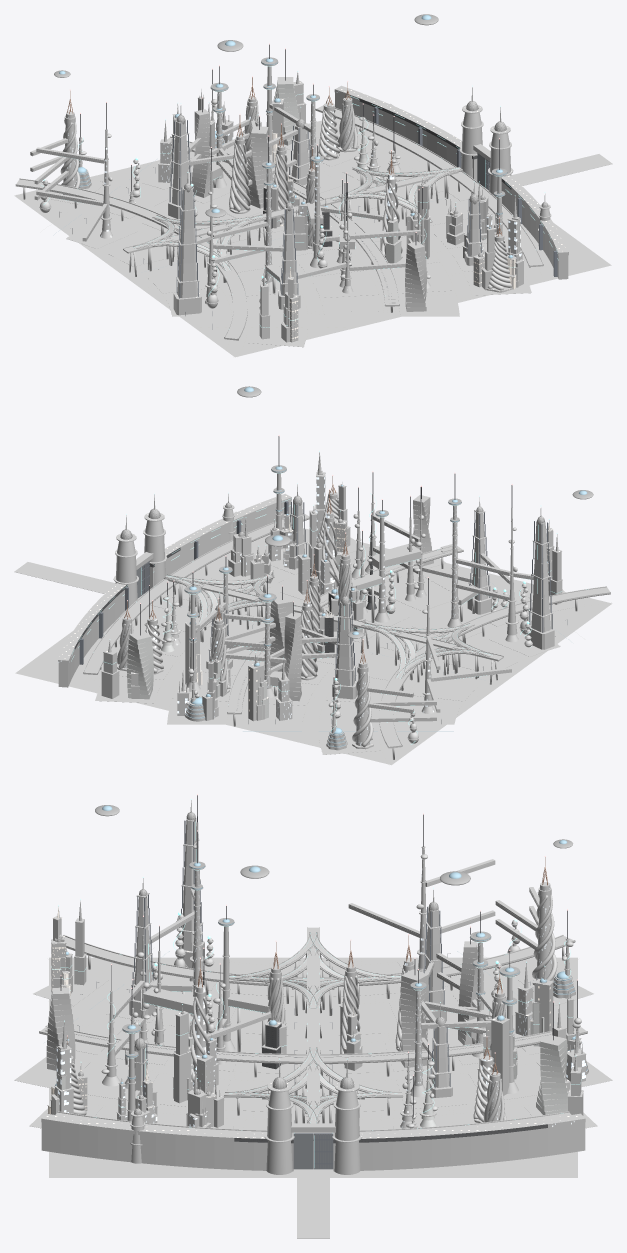
The model's file is Viertel_R2.fbx.
The picture shows the model from 3 angles, top to bottom: view 1: azimuth 30°, elevation 25°; view 2: azimuth 150°, elevation 25°; view 3: azimuth 270°, elevation 25°; orthographic projection. The views are drawn at different scales.
Parts seen in each view (by area): view 1: Viertel_R2_Strasse, Viertel_R2_Fassaden, Viertel_R2_Details; view 2: Viertel_R2_Strasse, Viertel_R2_Fassaden, Viertel_R2_Details; view 3: Viertel_R2_Fassaden, Viertel_R2_Strasse, Viertel_R2_Details, Tor_Ost_Fluegel_Links, Tor_Ost_Fluegel_Rechts.
Boxes of the visible parts, x1=… form: Viertel_R2_Strasse: x1=14, y1=103, x2=612, y2=357; Viertel_R2_Fassaden: x1=40, y1=66, x2=568, y2=342; Viertel_R2_Details: x1=23, y1=14, x2=558, y2=340; Viertel_R2_Strasse: x1=14, y1=511, x2=612, y2=765; Viertel_R2_Fassaden: x1=58, y1=473, x2=562, y2=750; Viertel_R2_Details: x1=71, y1=386, x2=593, y2=759; Viertel_R2_Fassaden: x1=41, y1=817, x2=588, y2=1174; Viertel_R2_Strasse: x1=14, y1=933, x2=612, y2=1238; Viertel_R2_Details: x1=45, y1=794, x2=586, y2=1145; Tor_Ost_Fluegel_Links: x1=293, y1=1133, x2=313, y2=1169; Tor_Ost_Fluegel_Rechts: x1=313, y1=1133, x2=333, y2=1169.
Bounding box in the file's own units: 84796 × 33761 × 72458.
